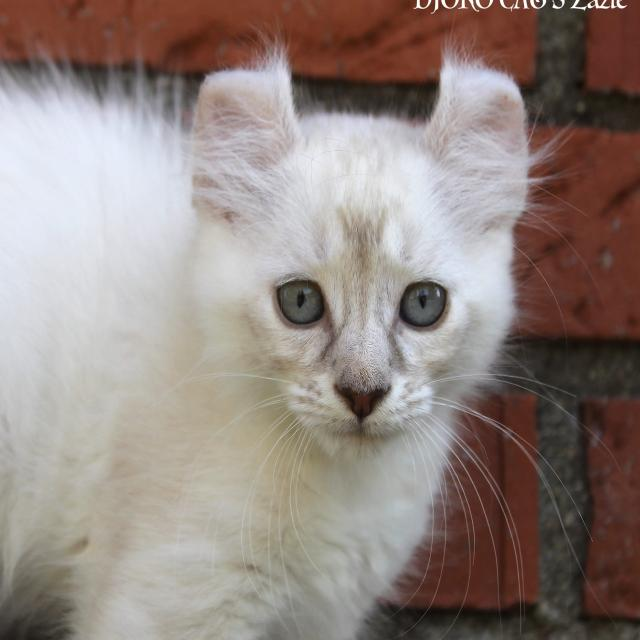American Curl: (0, 37, 536, 640)
